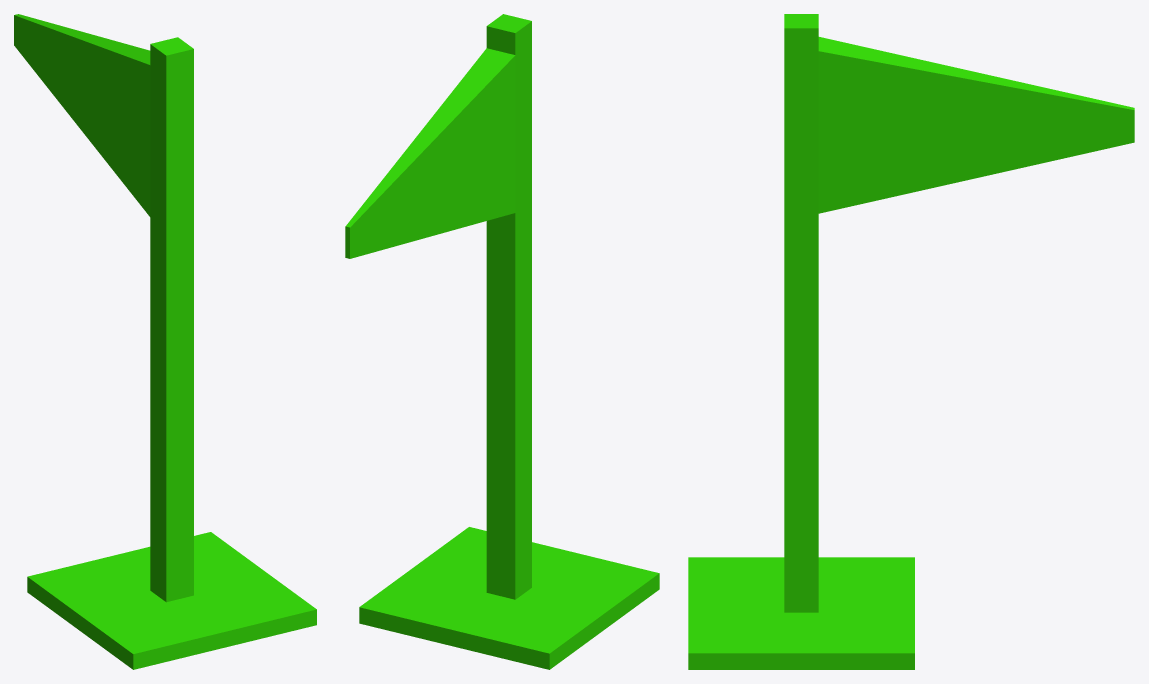
The model's file is flg.glb.
The picture shows the model from 3 angles, left to right: view 1: azimuth 30°, elevation 25°; view 2: azimuth 150°, elevation 25°; view 3: azimuth 270°, elevation 25°; orthographic projection. The views are drawn at different scales.
Parts seen in each view (by area): view 1: Cube; view 2: Cube; view 3: Cube.
Boxes of the visible parts, x1,y1,x2,y2 form: Cube: (14,14,316,669); Cube: (345,14,659,669); Cube: (688,14,1134,669).
Size of the model in its own units: 1.13 by 3.31 by 2.23.
